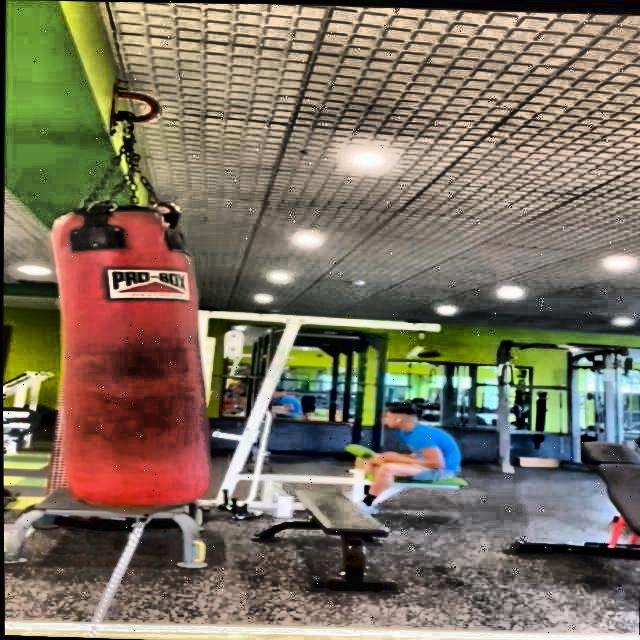boxing-bag: (42, 83, 212, 520)
